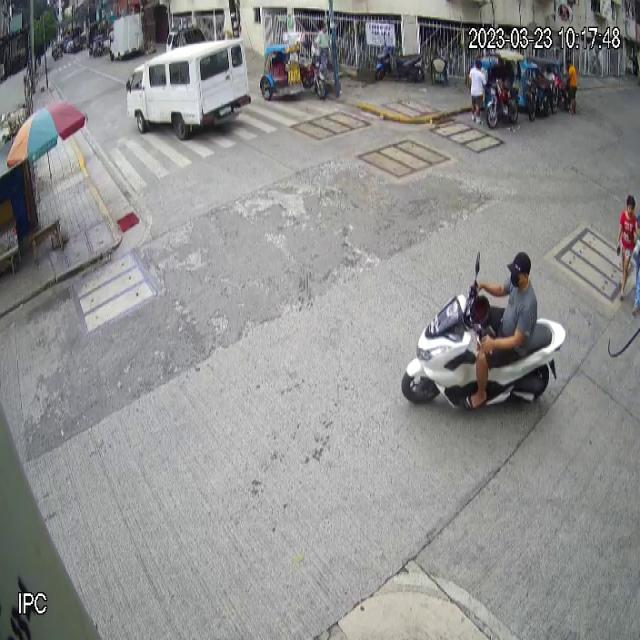Motorcycle: (400, 253, 566, 405)
Tricycle: (260, 30, 326, 104)
Van: (126, 39, 252, 141)
